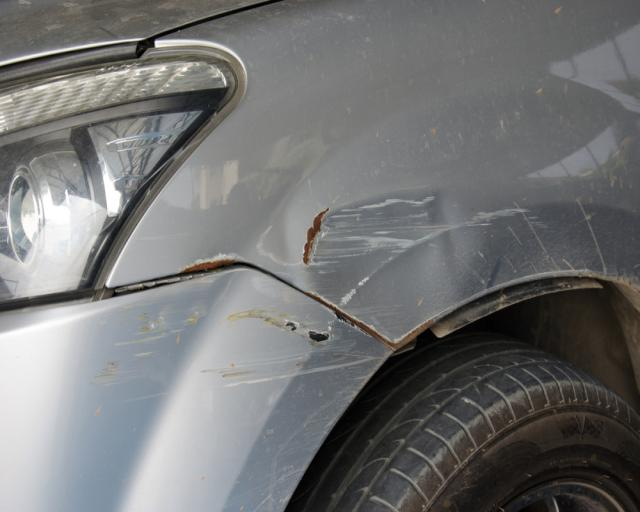dent: (431, 186, 464, 283)
scratch: (91, 287, 382, 512), (298, 194, 434, 303), (470, 202, 562, 232)
